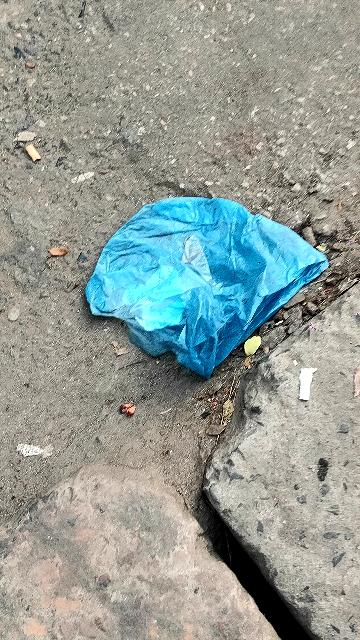polythene: (103, 172, 320, 347)
